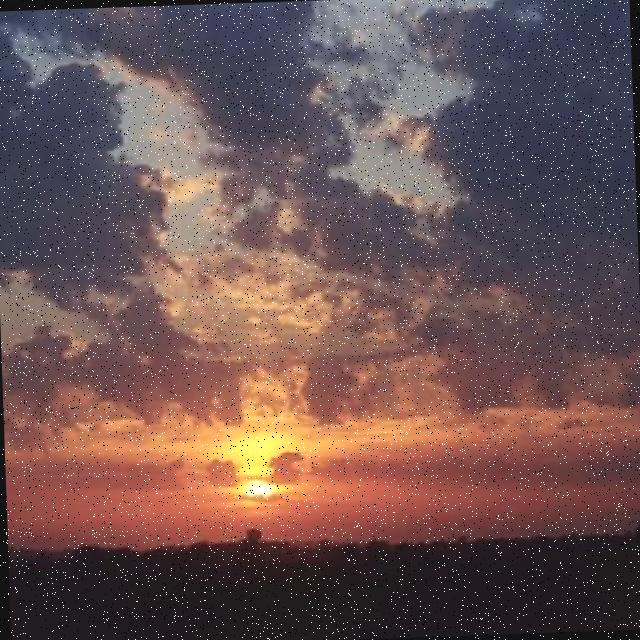Ac: (1, 1, 640, 443)
